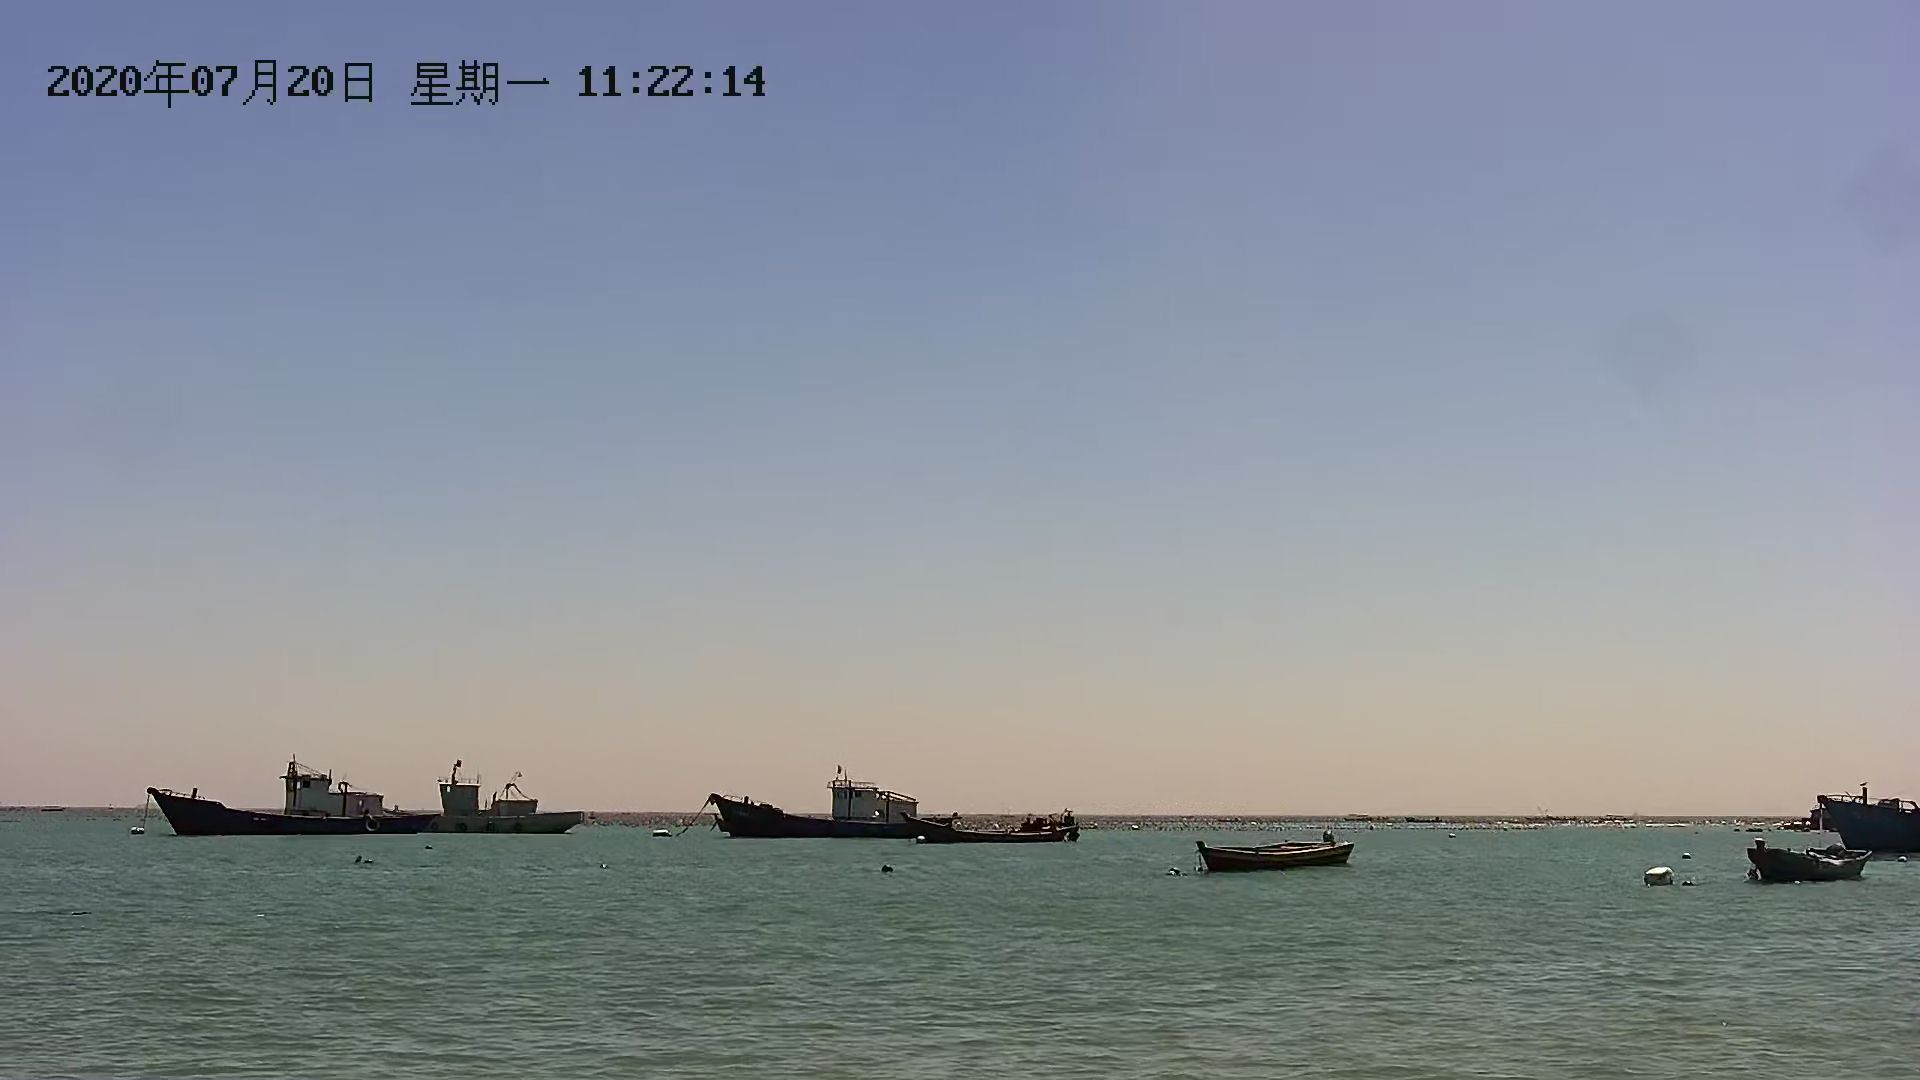ball: (1633, 860, 1685, 885)
boat: (124, 764, 603, 837), (702, 783, 965, 847), (898, 808, 1093, 851), (1189, 829, 1356, 872), (1816, 787, 1920, 855), (1747, 839, 1880, 886)
